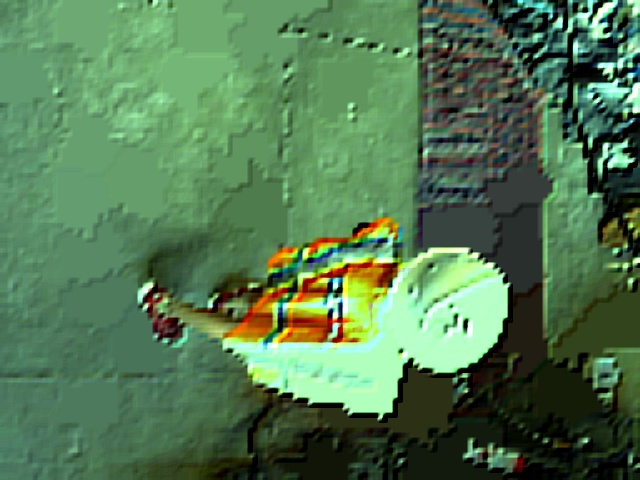eight: (421, 302, 472, 346)
